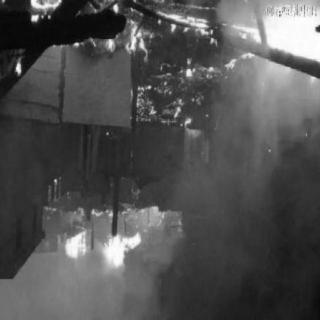Fire: (44, 4, 316, 152)
